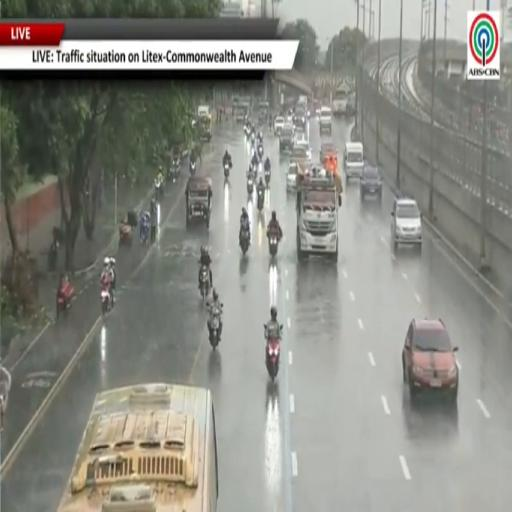bus: (57, 383, 218, 511), (332, 84, 350, 117)
car: (402, 319, 458, 402), (391, 198, 422, 251), (360, 166, 382, 201), (279, 124, 294, 153), (294, 138, 312, 162), (320, 141, 337, 164), (319, 107, 332, 134), (286, 163, 297, 190), (291, 146, 308, 161), (274, 117, 284, 135)
jeepney: (186, 176, 212, 228), (198, 115, 212, 141), (234, 102, 250, 122), (258, 101, 270, 124)
motorcycle: (264, 325, 280, 381), (57, 281, 74, 317), (209, 309, 221, 349), (200, 265, 210, 300), (168, 157, 181, 182), (101, 286, 112, 315), (240, 230, 250, 254), (140, 219, 149, 245), (269, 233, 278, 258), (154, 179, 163, 199), (257, 188, 264, 212), (247, 175, 254, 195), (252, 164, 258, 181), (224, 163, 230, 179), (258, 143, 263, 161), (265, 169, 270, 185), (190, 162, 196, 175), (251, 132, 255, 142)
tricycle: (57, 278, 74, 317), (119, 222, 133, 247)
truck: (297, 173, 340, 261), (197, 105, 210, 118)
